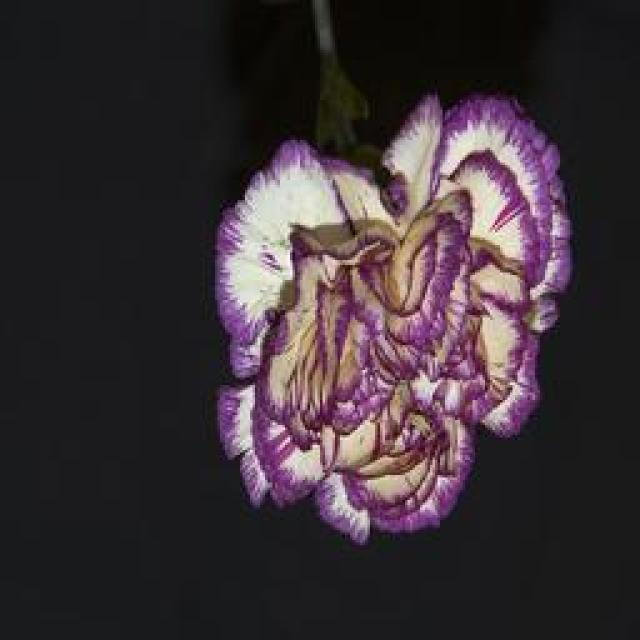carnation: (196, 81, 586, 565)
